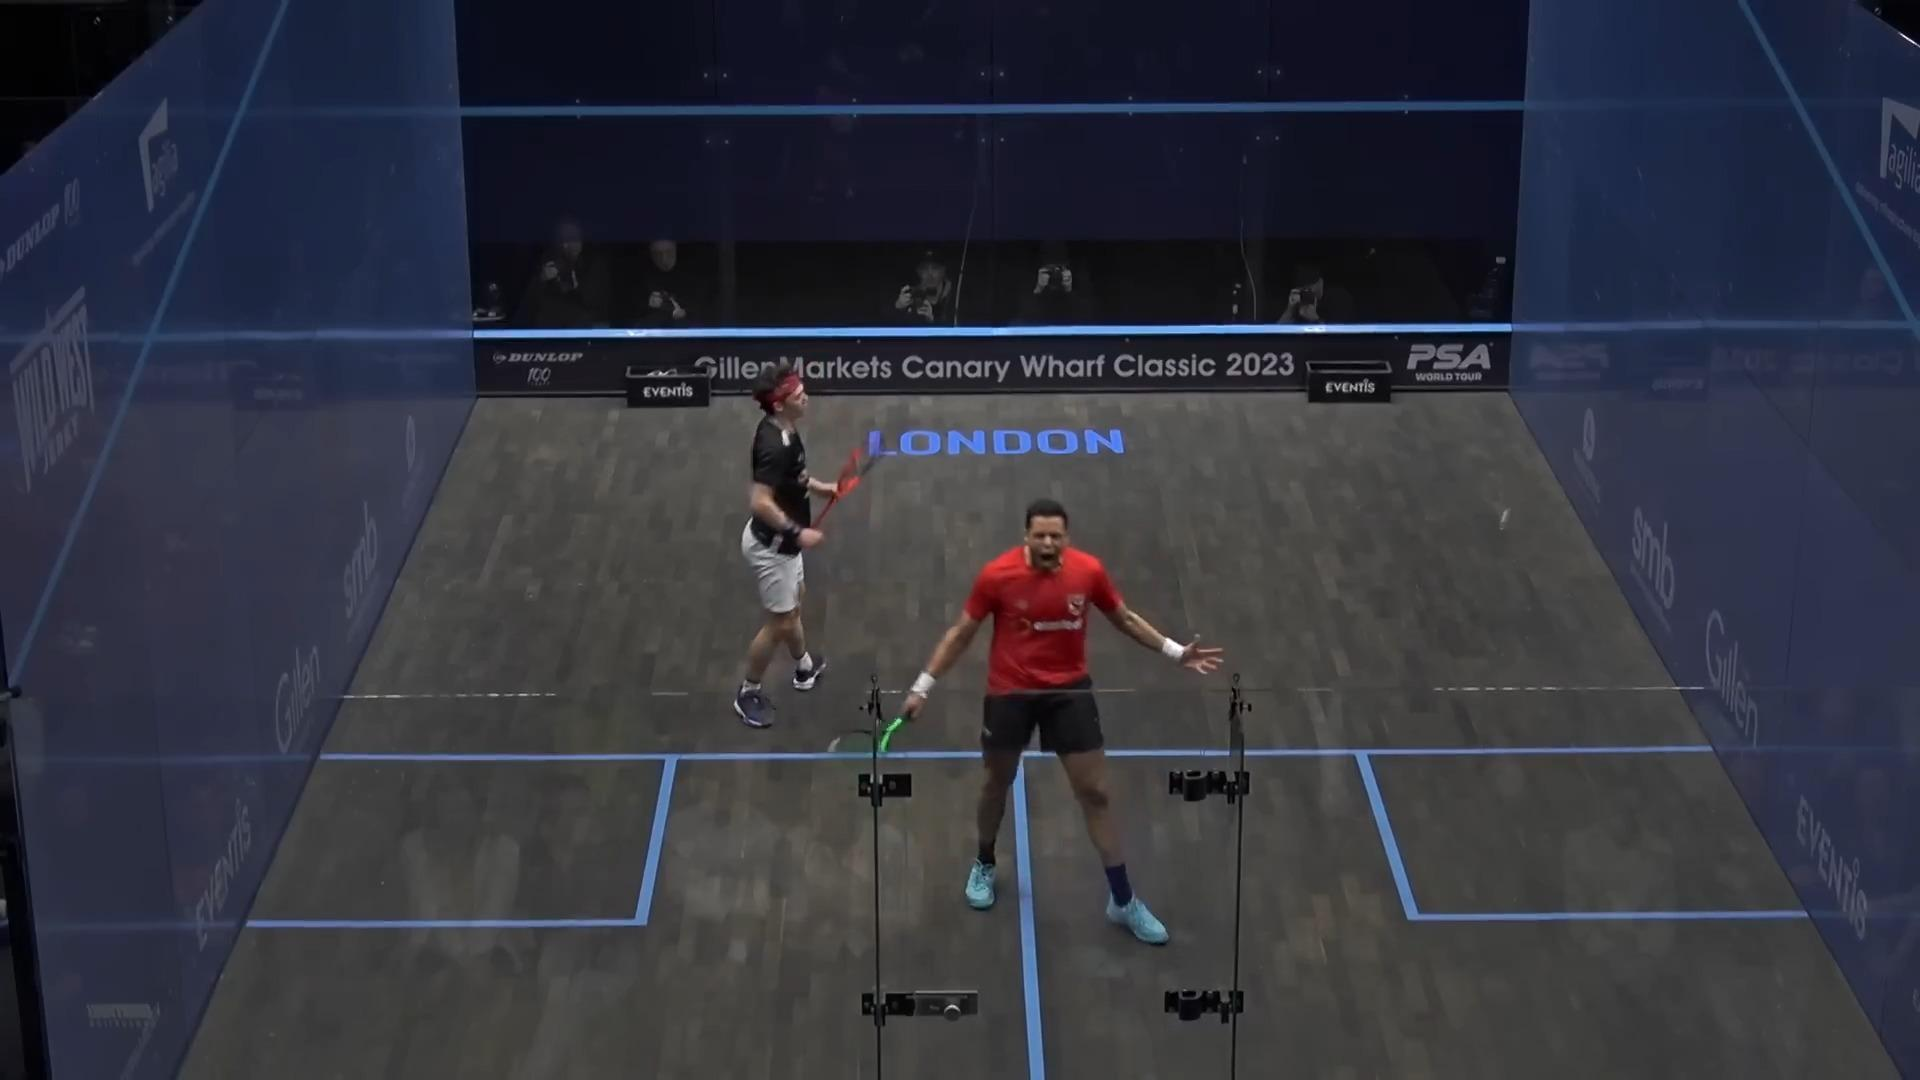Racket: (810, 436, 894, 530), (832, 711, 909, 786)
